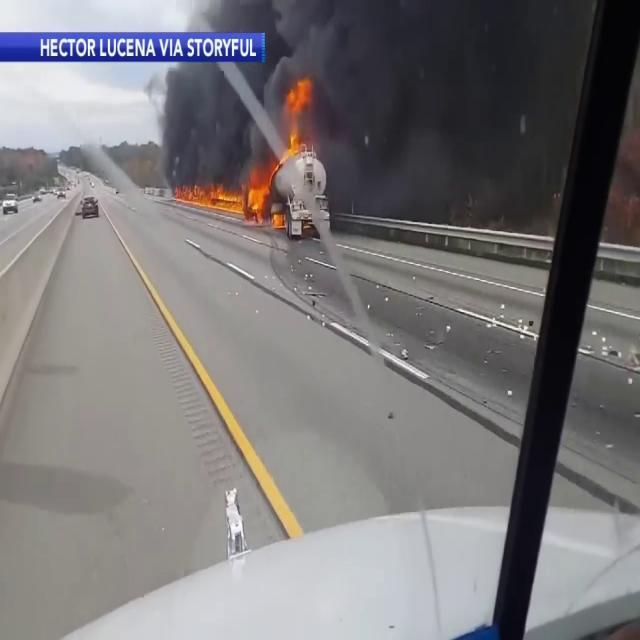Fire: (175, 168, 285, 222), (279, 75, 315, 160)
Smoke: (156, 1, 578, 204)
